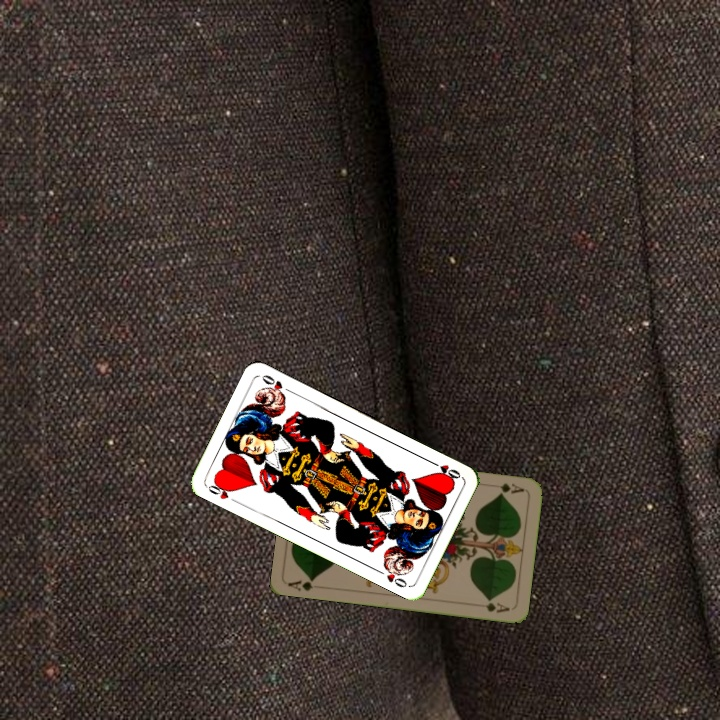GA: (487, 479, 527, 496), (284, 574, 317, 594)
HO: (203, 477, 241, 506), (426, 457, 463, 482)
